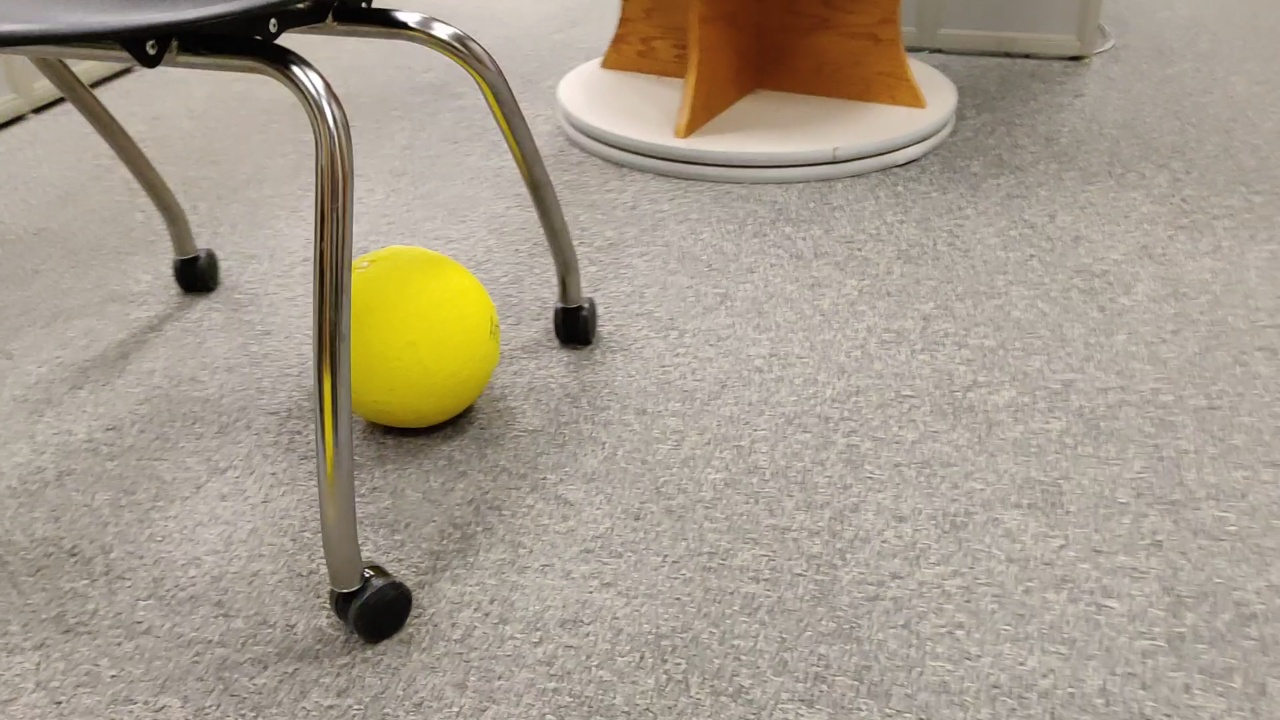Ball: (317, 247, 501, 436)
